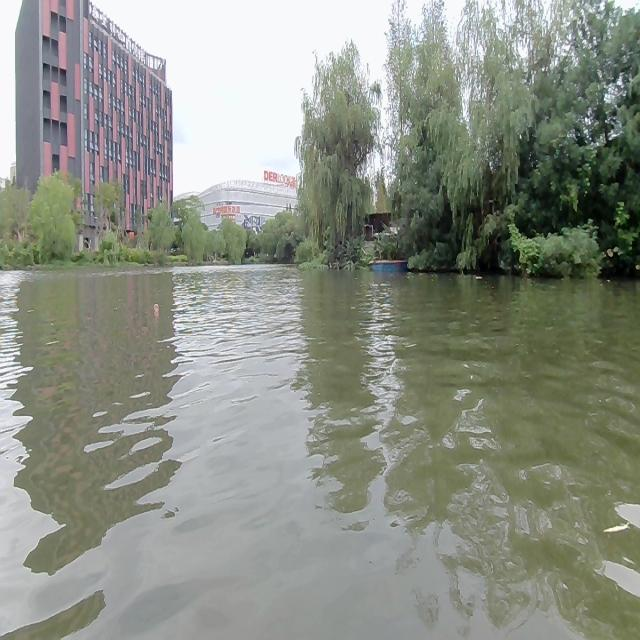bottle: (152, 300, 160, 313)
